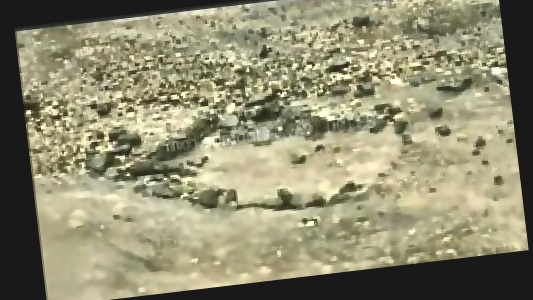pothole: (118, 86, 415, 230)
